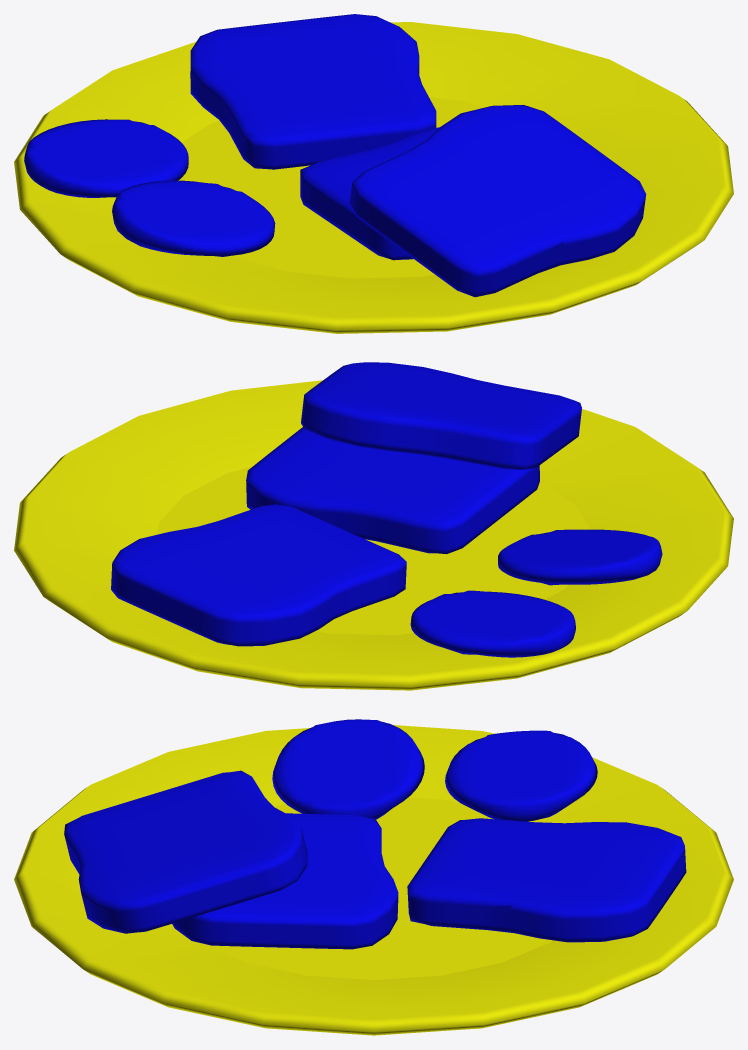
File: KitchenPatty1.fbx
The picture shows the model from 3 angles, top to bottom: view 1: azimuth 30°, elevation 25°; view 2: azimuth 150°, elevation 25°; view 3: azimuth 270°, elevation 25°; orthographic projection.
Visible parts, largest first — view 1: Patty1; view 2: Patty1; view 3: Patty1.
Boxes of the visible parts, x1=… form: Patty1: x1=14, y1=14, x2=733, y2=333; Patty1: x1=14, y1=362, x2=733, y2=690; Patty1: x1=14, y1=719, x2=733, y2=1035.
Size of the model in its own units: 34.76 by 6.54 by 34.76.
